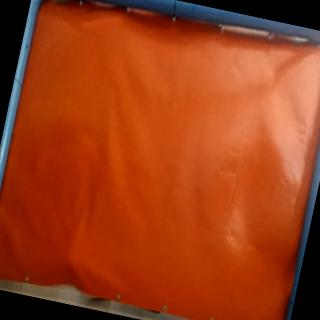Hit-hRxx: (60, 251, 80, 271)
